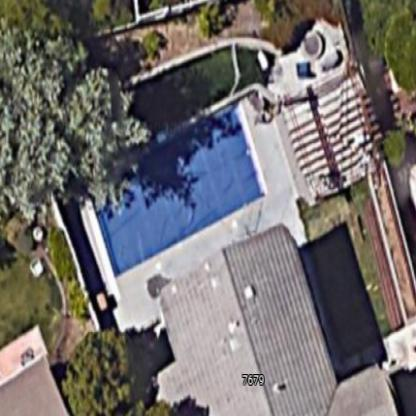pool: (76, 91, 273, 280)
